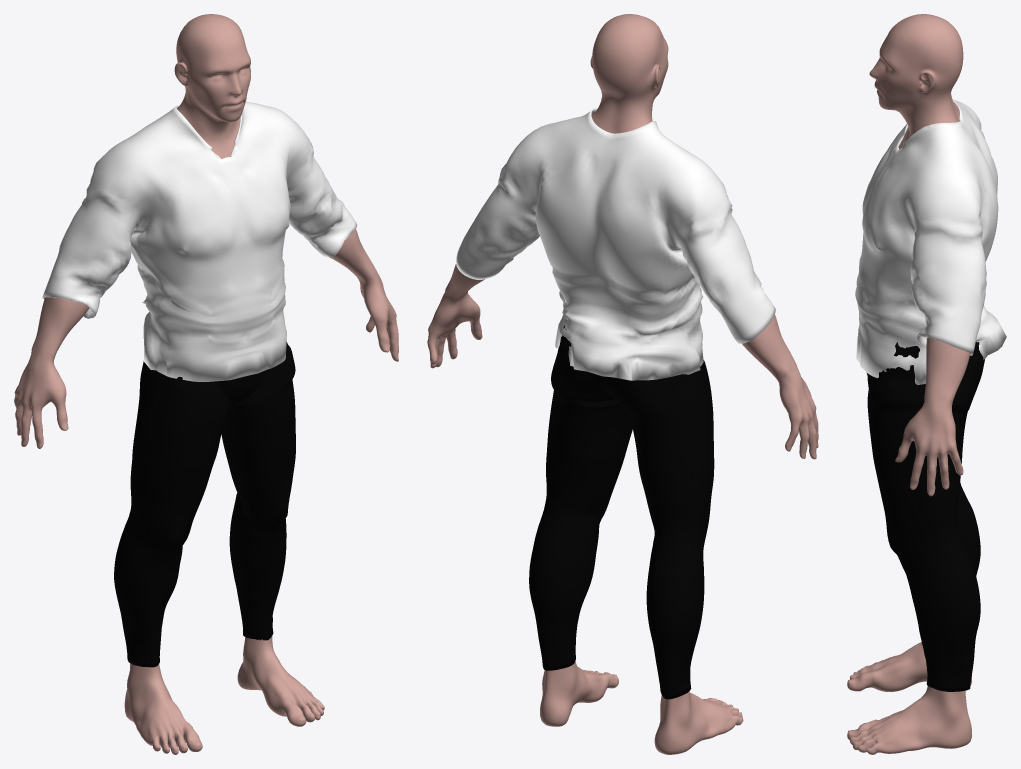
The model's file is human.gltf.
The picture shows the model from 3 angles, left to right: view 1: azimuth 30°, elevation 25°; view 2: azimuth 150°, elevation 25°; view 3: azimuth 270°, elevation 25°; orthographic projection.
Visible parts, largest first — view 1: baked jeans; view 2: baked jeans; view 3: baked jeans.
Part boxes in pixels (<box>): baked jeans: <box>14,14,398,754</box>; baked jeans: <box>427,14,818,754</box>; baked jeans: <box>847,14,1006,754</box>.
Bounding box in the file's own units: 11.69 × 20.74 × 4.3.
